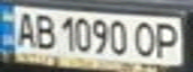0: (109, 17, 130, 56), (72, 15, 93, 53)
1: (54, 14, 75, 52)
9: (90, 16, 112, 55)
A: (12, 8, 39, 47)
B: (30, 11, 57, 51)
O: (130, 18, 160, 58)
P: (151, 20, 184, 61)
